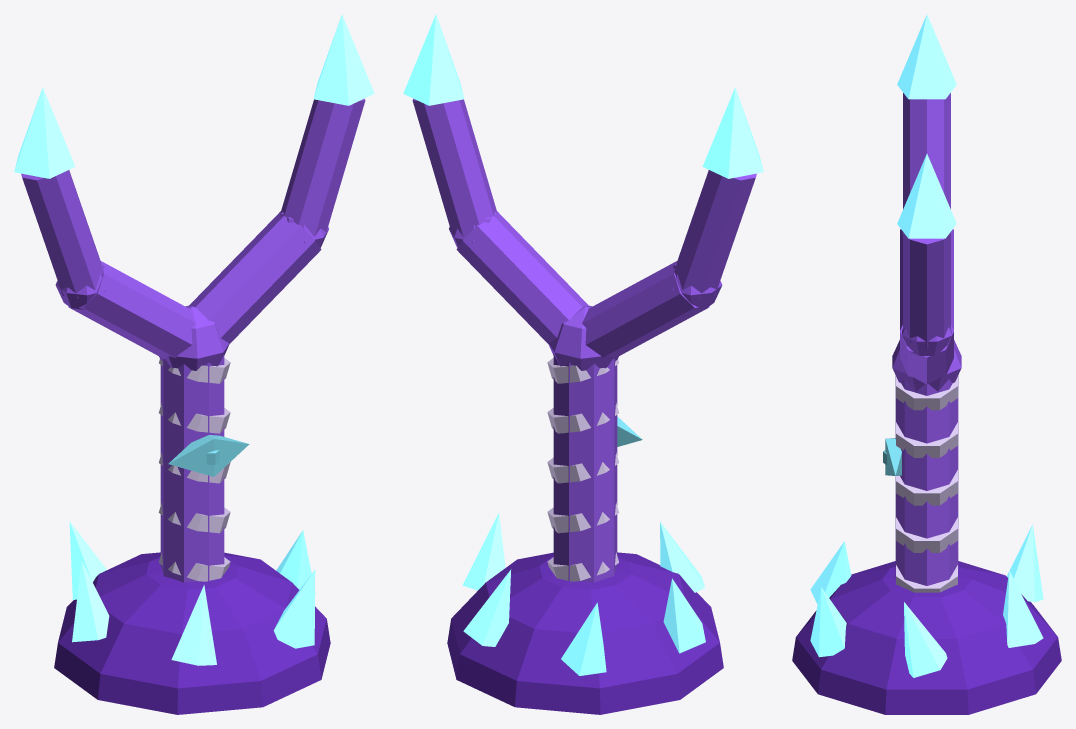
File: slingshot_5.fbx
3 views of the same model, side by side, from view 1: azimuth 30°, elevation 25°; view 2: azimuth 150°, elevation 25°; view 3: azimuth 270°, elevation 25° (orthographic). The views are drawn at different scales.
Parts seen in each view (by area): view 1: Frame, Base, Crystals, Tips, Stripes, Bow; view 2: Frame, Base, Crystals, Tips, Stripes; view 3: Base, Frame, Crystals, Tips, Stripes, Bow.
Part boxes in pixels (x1,y1,x2,y2): Frame: (21,98,365,582); Base: (54,552,330,714); Crystals: (69,521,315,665); Tips: (14,14,374,178); Stripes: (158,358,230,581); Bow: (168,435,249,476); Frame: (412,98,756,582); Base: (447,552,723,714); Crystals: (462,513,705,675); Tips: (403,14,763,178); Stripes: (547,358,619,581); Base: (792,561,1061,714); Frame: (892,93,961,585); Crystals: (810,524,1043,677); Tips: (897,14,956,238); Stripes: (896,376,957,592); Bow: (883,438,901,475).
Bounding box in the file's own units: 5.16 × 8.5 × 3.6.
